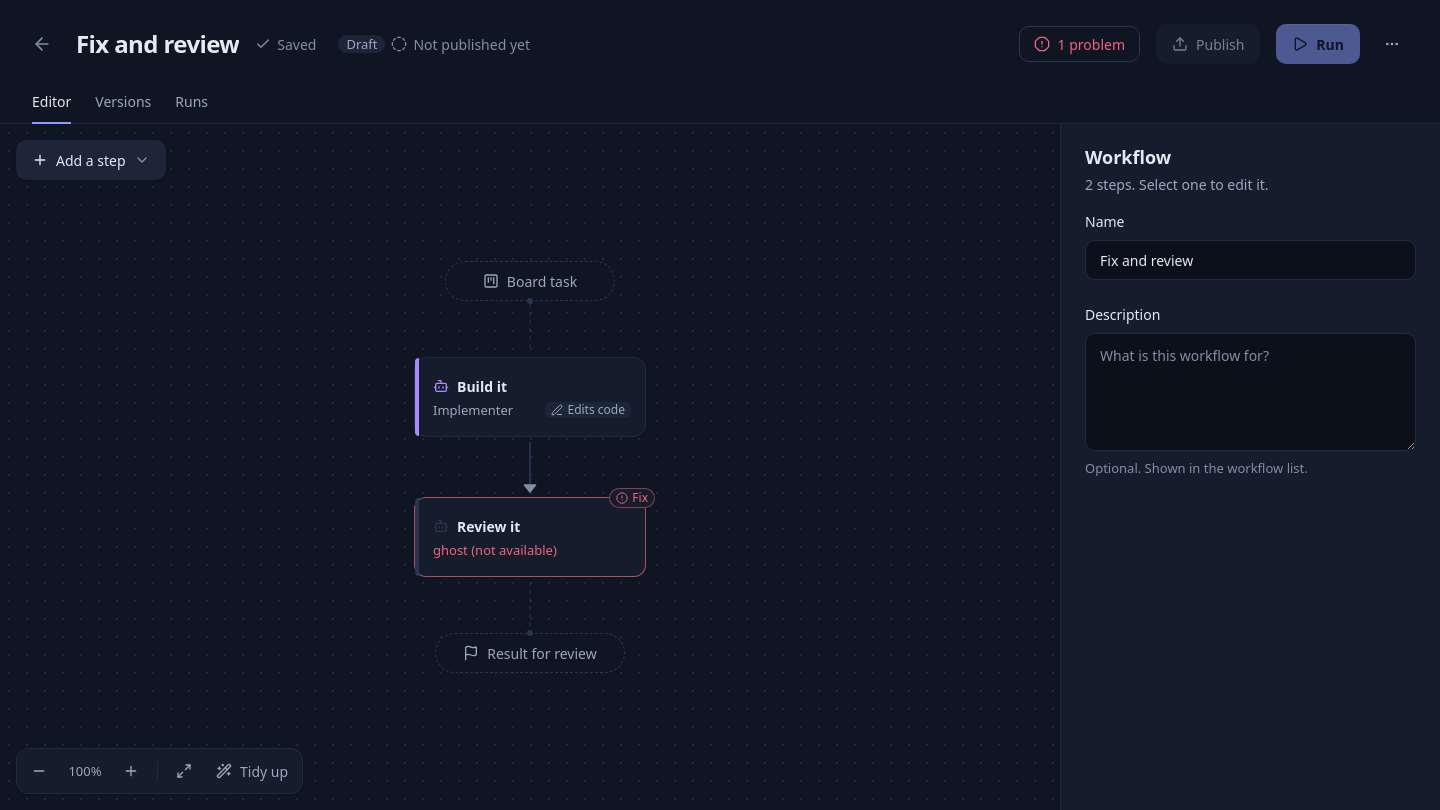
Scenario: workflow editor › saves edits against the revision they started from
The image size is (1440, 810).
Replace the text in the field labelled "Name" with "Ship it" at (1250, 260), box [1085,240,1416,280]
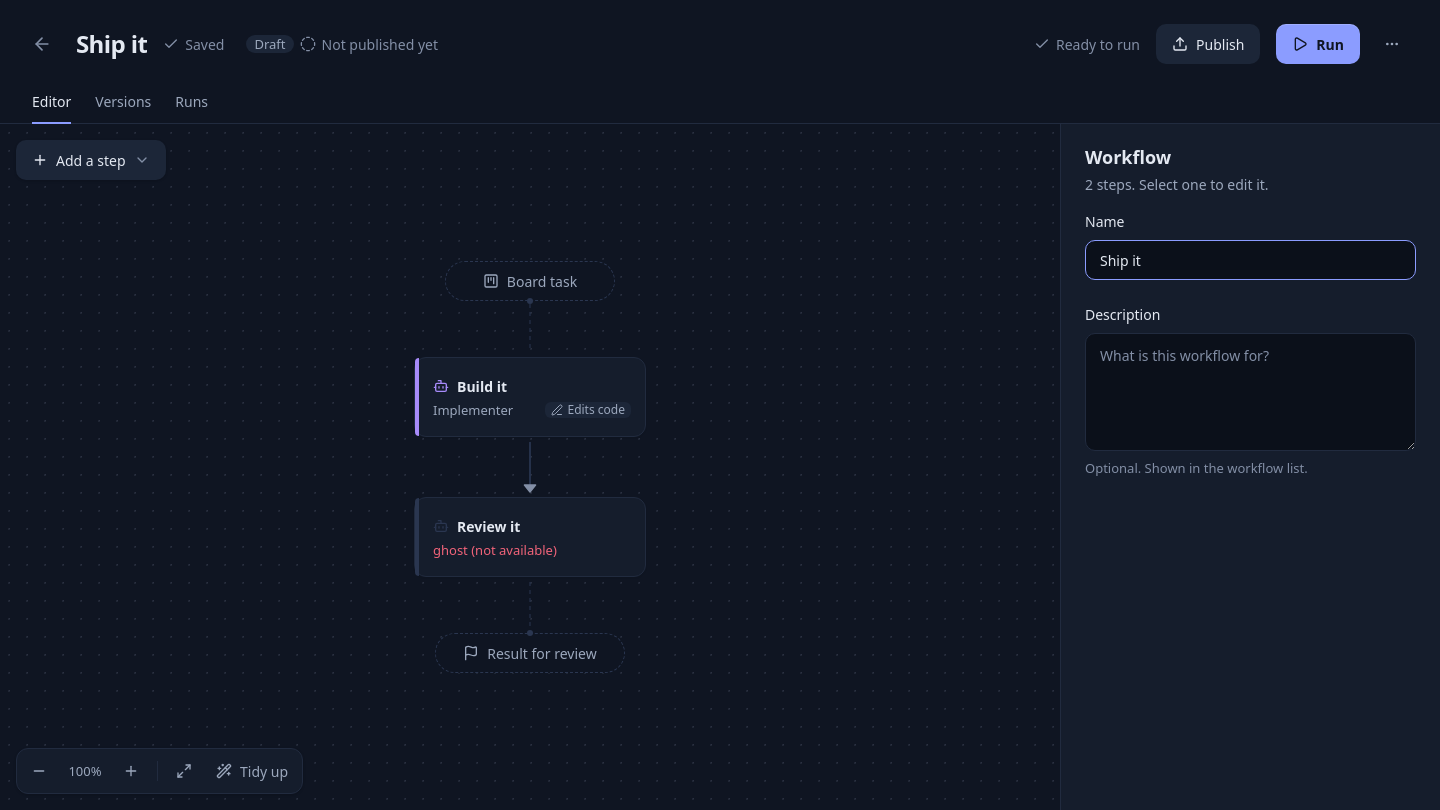
Now the message reads "Saved", box [185,34,224,54]
